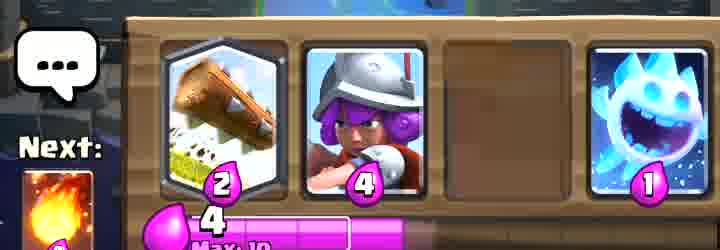fireball: (25, 172, 93, 250)
ice-spirit: (595, 45, 711, 199)
log: (167, 43, 281, 190)
musketeer: (308, 48, 425, 205)
